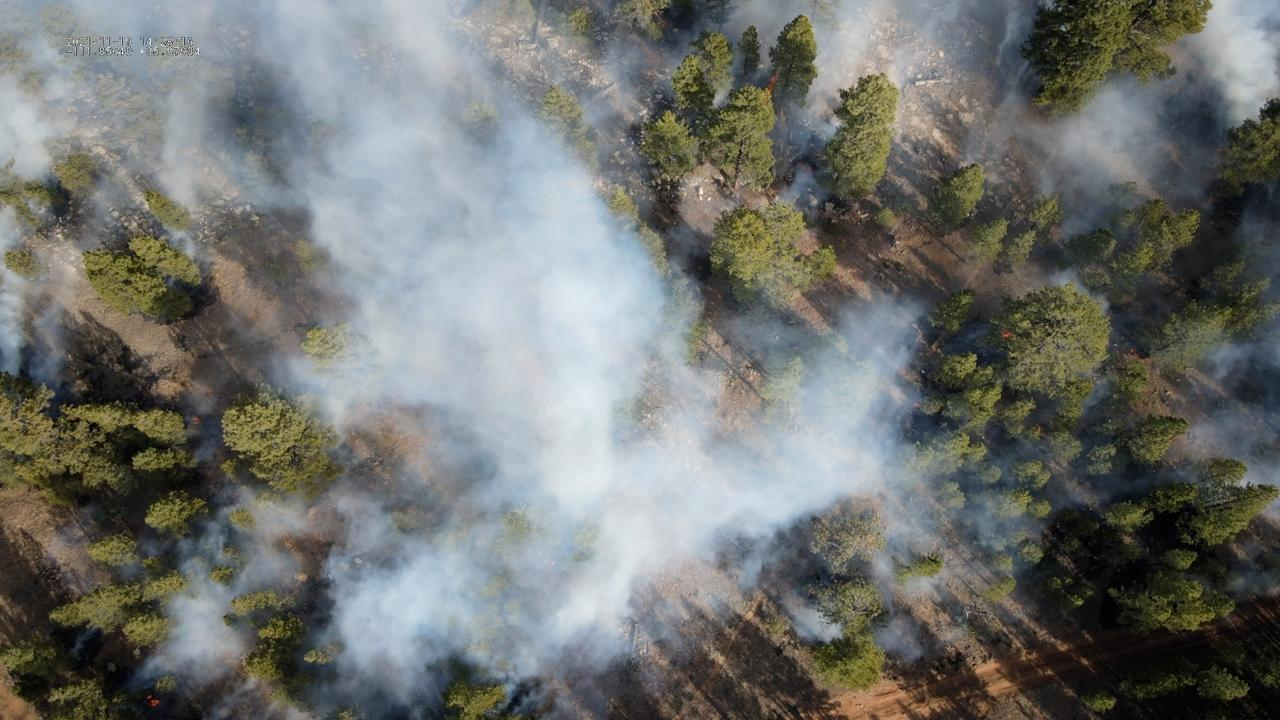fire: (766, 72, 780, 92), (145, 693, 160, 708), (999, 327, 1013, 341), (190, 415, 199, 426), (1036, 425, 1041, 433)
smoke: (0, 0, 1280, 720)
